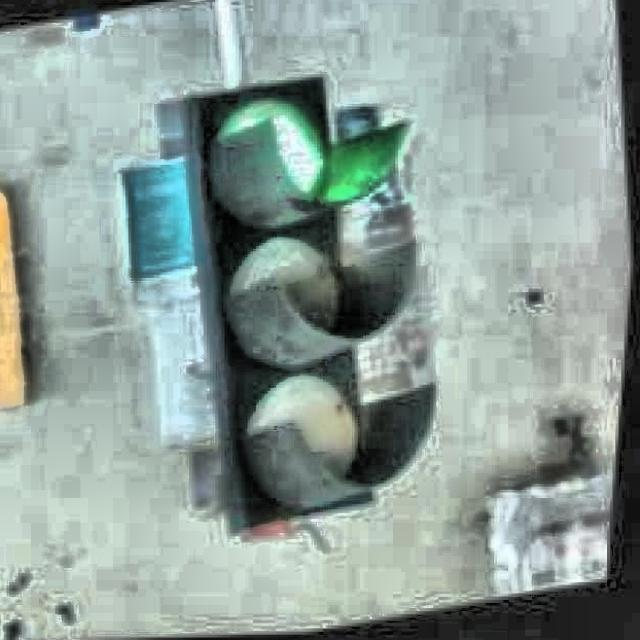green: (191, 71, 411, 518)
